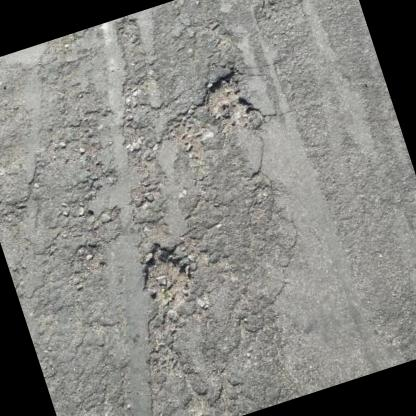pothole: (130, 233, 201, 315), (194, 62, 264, 140)
